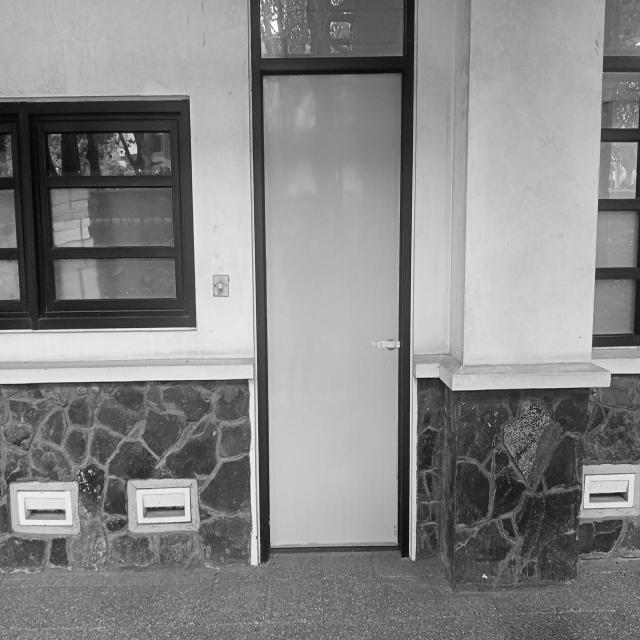door: (252, 57, 416, 554)
